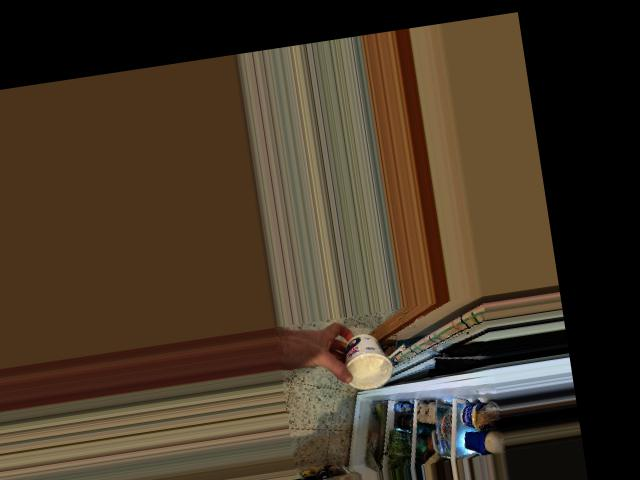cotage: (340, 332, 390, 392)
